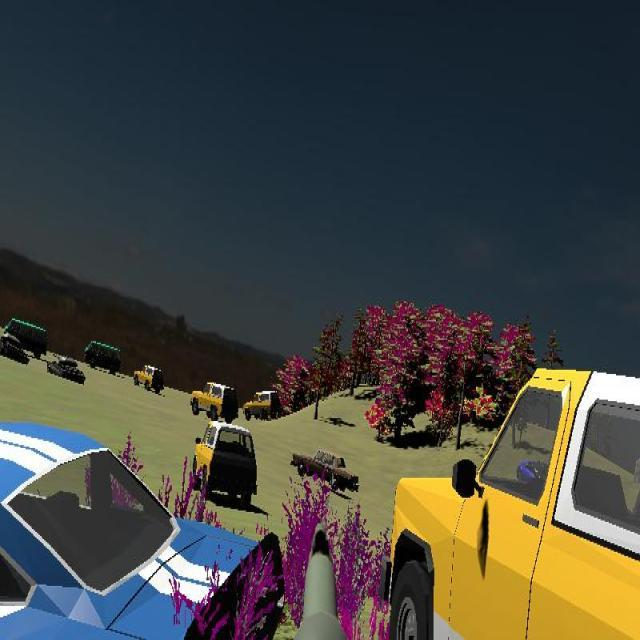Tank: (40, 352, 85, 385), (0, 331, 31, 365)
car: (387, 369, 640, 640), (0, 419, 294, 639), (192, 422, 258, 510), (290, 446, 360, 494), (190, 380, 238, 423), (4, 316, 48, 357), (5, 315, 48, 356), (85, 338, 122, 375), (244, 390, 282, 421), (134, 363, 165, 395)
